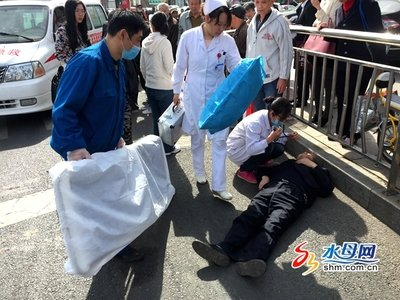10+: (38, 1, 400, 279)
down: (190, 144, 336, 275)
